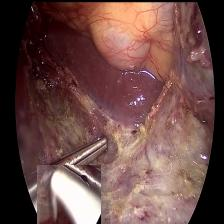Grasper: (29, 130, 109, 192)
Hook: (36, 164, 100, 222)
